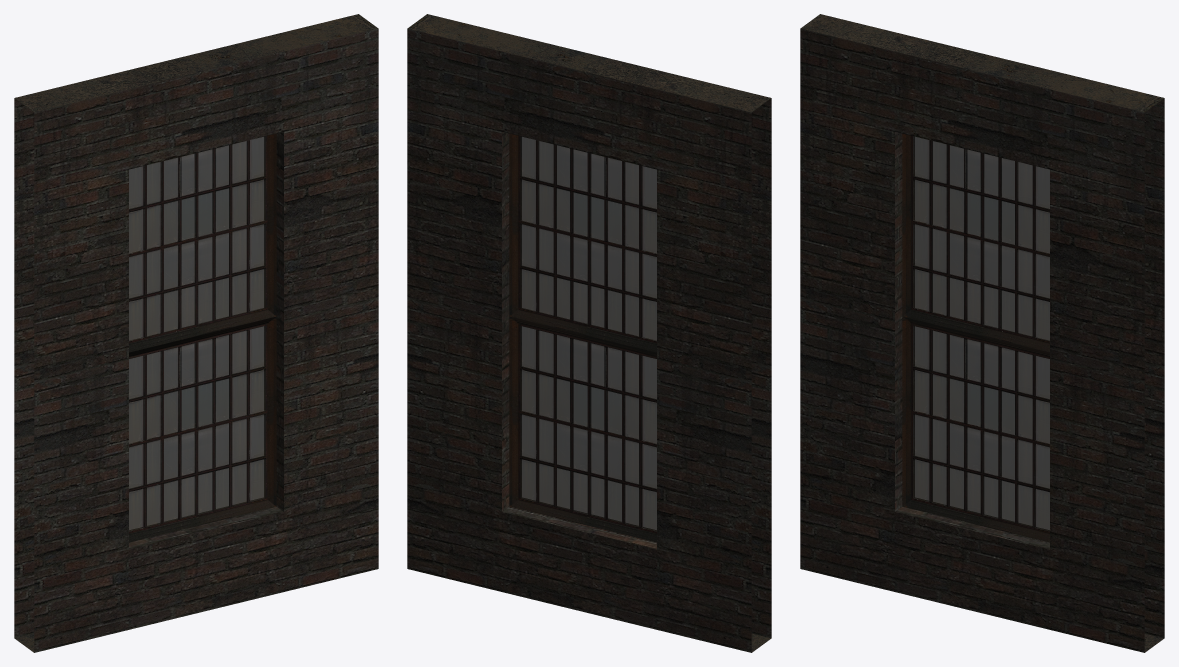
The model's file is wall_hs_1_m_2.obj.
The picture shows the model from 3 angles, left to right: view 1: azimuth 30°, elevation 25°; view 2: azimuth 150°, elevation 25°; view 3: azimuth 330°, elevation 25°; orthographic projection.
Visible parts, largest first — view 1: wall_hs_1_m_2; view 2: wall_hs_1_m_2; view 3: wall_hs_1_m_2.
Part boxes in pixels (x1,y1,x2,y2): wall_hs_1_m_2: (14,14,378,652); wall_hs_1_m_2: (407,14,771,652); wall_hs_1_m_2: (800,14,1164,652).
Bounding box in the file's own units: 4 × 6 × 0.4.
